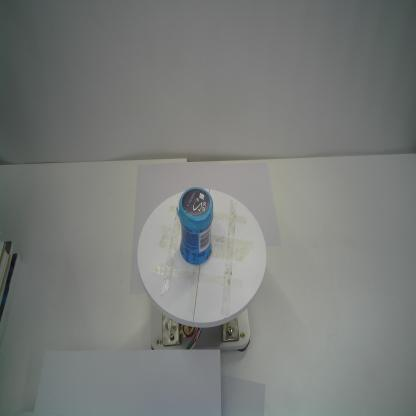Gum: (176, 186, 214, 266)
